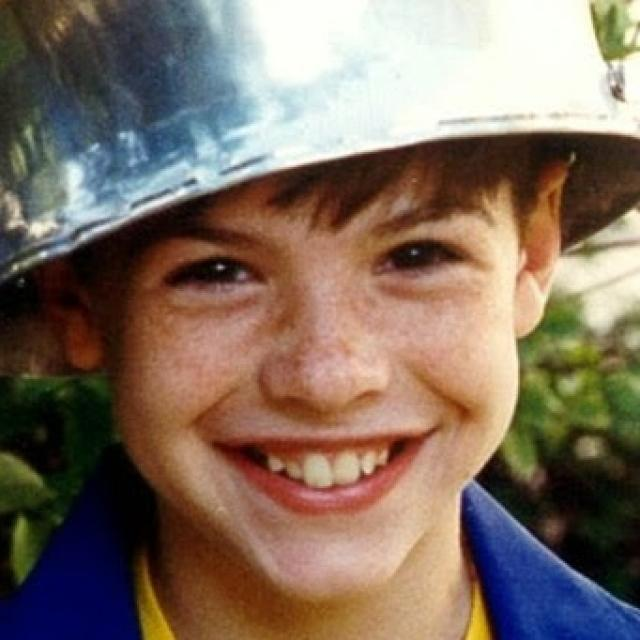Normal: (106, 147, 522, 607)
